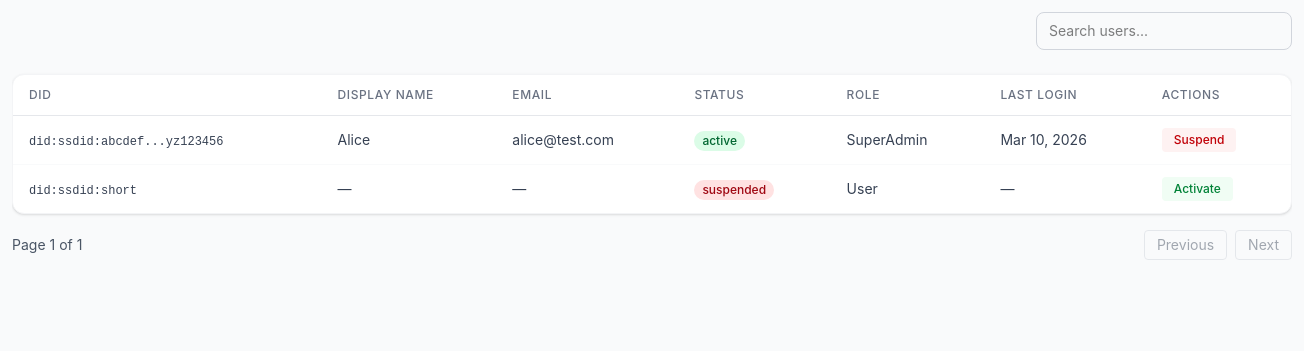
Test case: UsersPage › shows error when updateUser fails
Click the button "Activate".
click(1197, 189)  # box [1162, 177, 1233, 201]
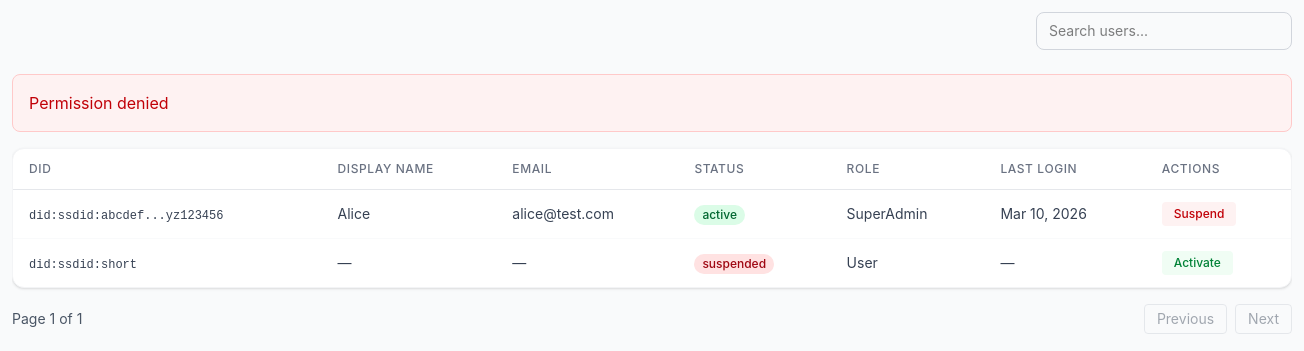
expect the text "Permission denied" is shown: met, box [12, 74, 1292, 132]
